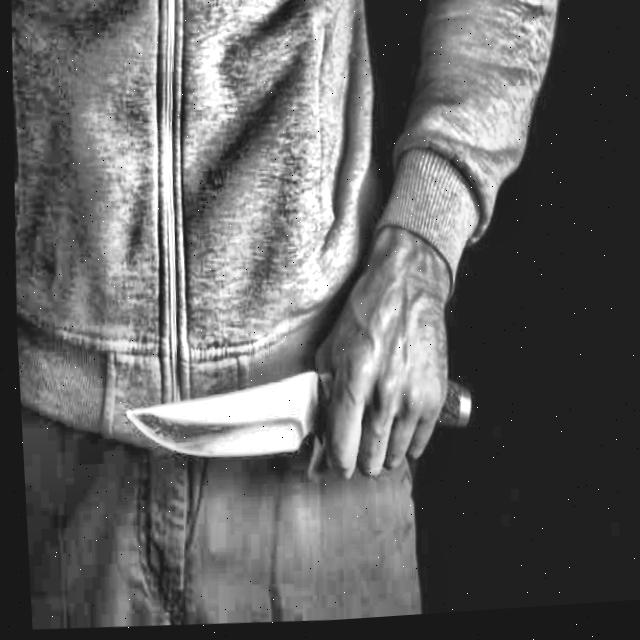pisau: (117, 291, 503, 487)
